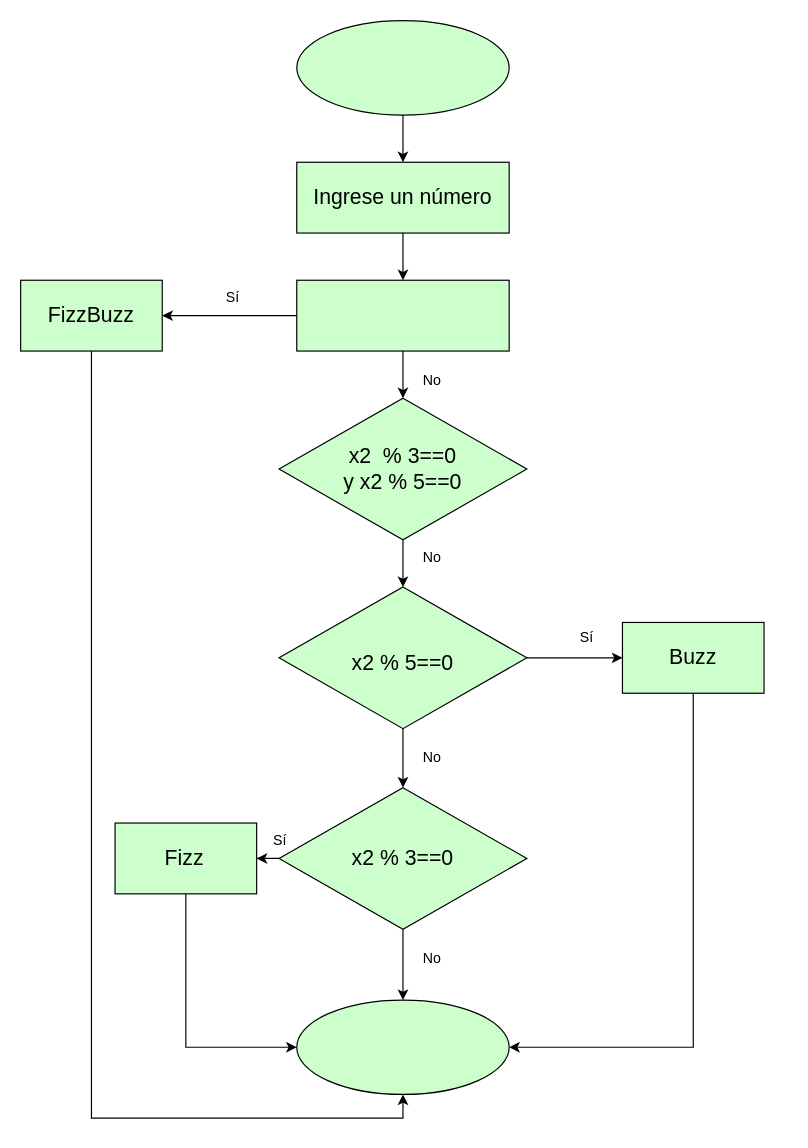
This 808x1148 diagram has some shape labels left out. The shapes that lost their labels are listed below. From the top down, each one's centre as x and y in pixels, then its label:
At (402,67): "Inicio".
At (402,315): "x2= int(input())".
At (402,1046): "Fin".
